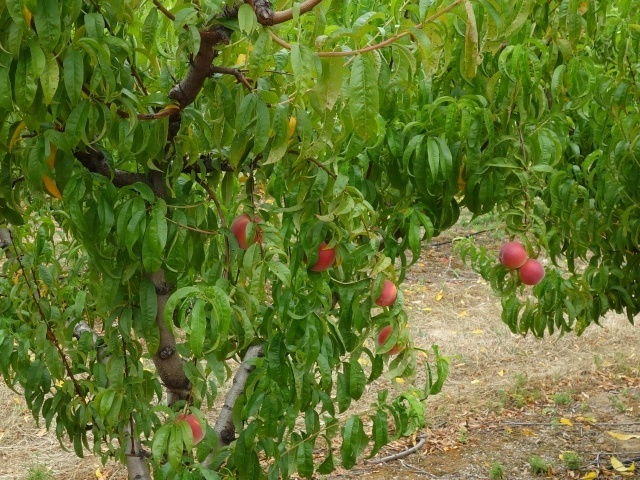peach: (229, 208, 271, 253), (301, 235, 339, 273), (173, 407, 206, 446), (515, 253, 546, 289), (496, 238, 529, 271), (371, 275, 401, 310), (376, 320, 405, 355)
